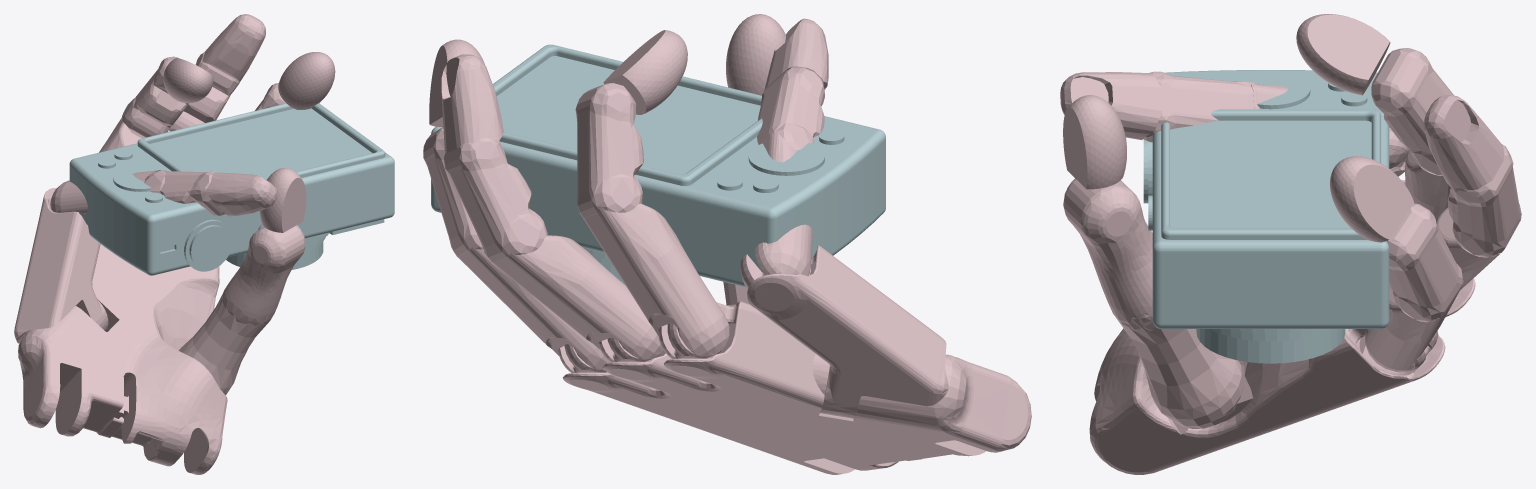
Rendered from grasp_1.glb.
The picture shows the model from 3 angles, left to right: view 1: azimuth 30°, elevation 25°; view 2: azimuth 150°, elevation 25°; view 3: azimuth 270°, elevation 25°; orthographic projection. The views are drawn at different scales.
Parts seen in each view (by area): view 1: world; view 2: world; view 3: world.
Boxes of the visible parts, x1,y1,x2,y2 form: world: (14,14,394,474); world: (423,14,1031,474); world: (1060,14,1521,474).
Bounding box in the file's own units: 0.1658 × 0.1511 × 0.1261.
